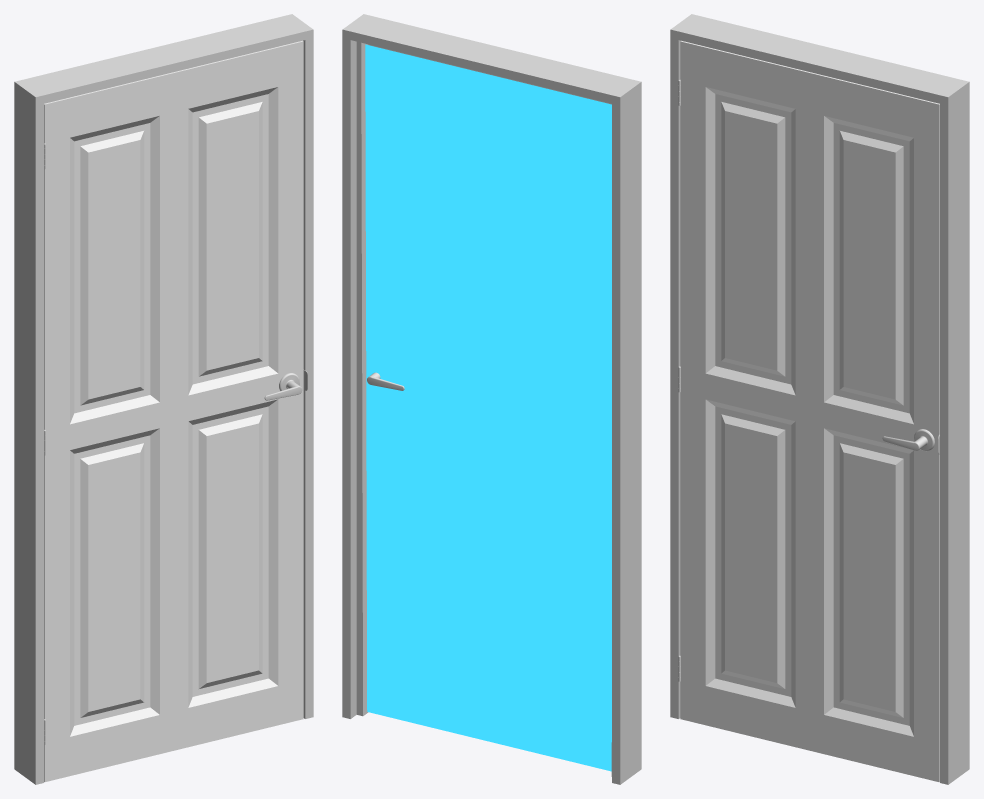
Rendered from Puerta.fbx.
The picture shows the model from 3 angles, left to right: view 1: azimuth 30°, elevation 25°; view 2: azimuth 150°, elevation 25°; view 3: azimuth 330°, elevation 25°; orthographic projection.
Parts seen in each view (by area): view 1: Door.001, Door Frame; view 2: Plane, Door Frame; view 3: Door.001, Door Frame.
Boxes of the visible parts, box(x1,y1,x2,y2) form: Door.001: box(44, 40, 303, 782); Door Frame: box(14, 14, 313, 784); Plane: box(365, 44, 611, 771); Door Frame: box(342, 14, 641, 784); Door.001: box(680, 40, 939, 782); Door Frame: box(670, 14, 969, 784).
Size of the model in its own units: 87.16 by 206 by 16.49.
5 materials, 1 textured.
